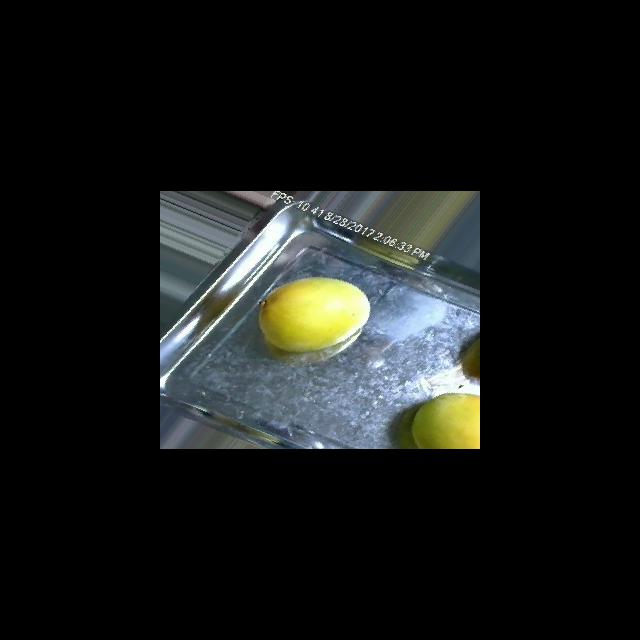mango: (258, 276, 370, 352), (410, 392, 479, 448)
